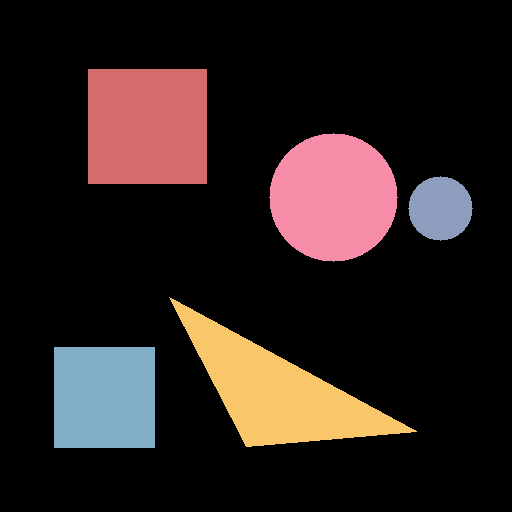circle: (269, 133, 397, 261), (408, 176, 472, 240)
square: (88, 69, 206, 183), (54, 347, 154, 447)
triangle: (169, 297, 416, 446)
